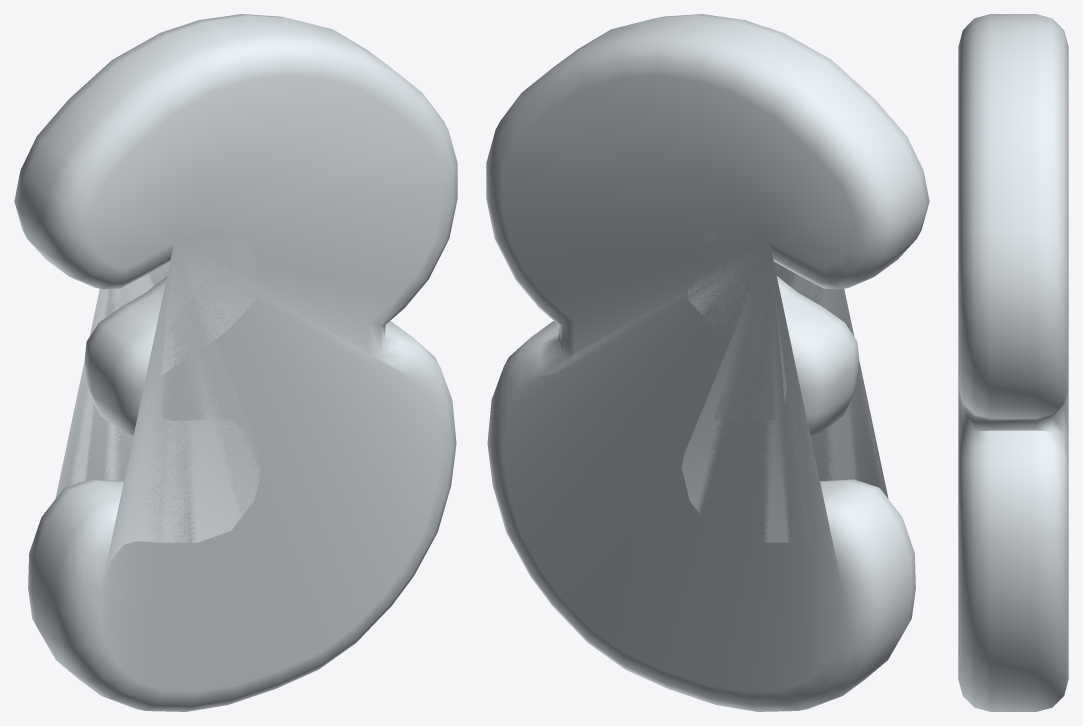
Rendered from NumberThree 1.fbx.
3 views of the same model, side by side, from view 1: azimuth 30°, elevation 25°; view 2: azimuth 150°, elevation 25°; view 3: azimuth 270°, elevation 25° (orthographic). The views are drawn at different scales.
Visible parts, largest first — view 1: Vert.004; view 2: Vert.004; view 3: Vert.004.
Boxes of the visible parts, x1,y1,x2,y2 form: Vert.004: [14, 14, 457, 711]; Vert.004: [486, 14, 929, 711]; Vert.004: [958, 14, 1068, 711].
Bounding box in the file's own units: 212 × 326 × 50.18.
